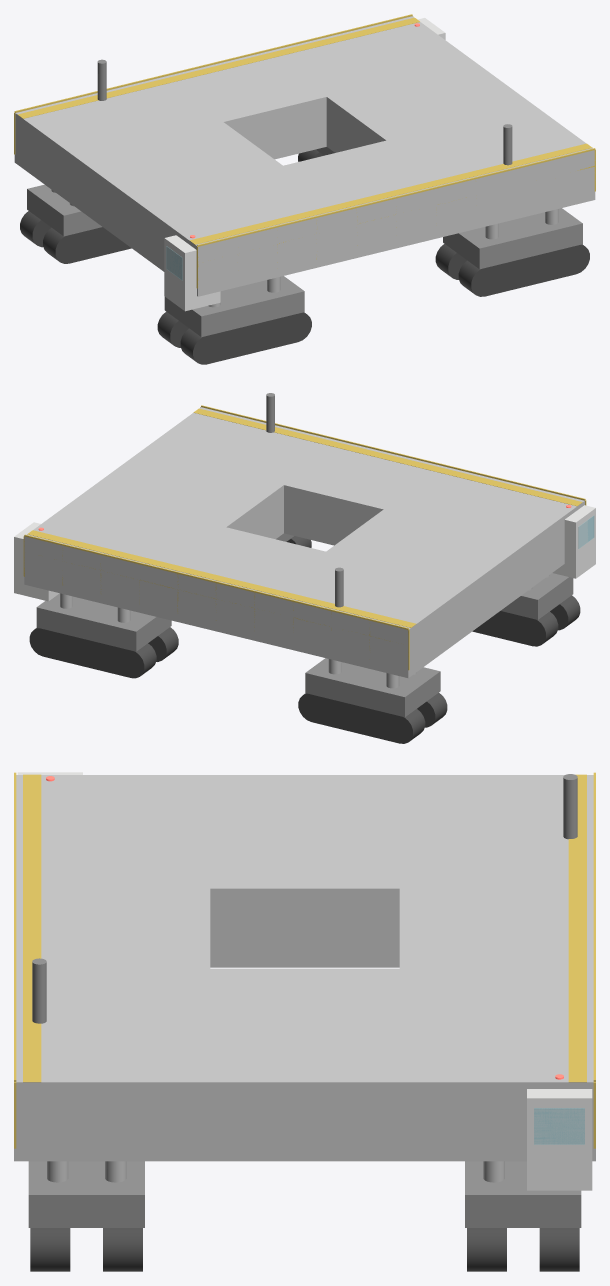
File: crawler-transporter.glb
3 renders of one model, top to bottom at view 1: azimuth 30°, elevation 25°; view 2: azimuth 150°, elevation 25°; view 3: azimuth 270°, elevation 25°, orthographic. The views are drawn at different scales.
Parts seen in each view (by area): view 1: platform-deck, tracks, truck-frames, platform-deck-edge-stripes, platform-cabs, platform-railings, platform-exhaust-stacks, jacking-cylinders; view 2: platform-deck, truck-frames, tracks, platform-deck-edge-stripes, platform-cabs, platform-railings, jacking-cylinders, platform-exhaust-stacks; view 3: platform-deck, truck-frames, platform-deck-edge-stripes, tracks, platform-cabs, platform-railings, platform-exhaust-stacks, platform-cab-windows, jacking-cylinders.
Boxes of the visible parts, <box> form: platform-deck: <box>14,16,595,296</box>; tracks: <box>20,149,589,364</box>; truck-frames: <box>27,147,582,337</box>; platform-deck-edge-stripes: <box>17,17,592,244</box>; platform-cabs: <box>164,18,445,311</box>; platform-railings: <box>14,14,595,288</box>; platform-exhaust-stacks: <box>97,59,512,165</box>; jacking-cylinders: <box>51,189,558,307</box>; platform-deck: <box>24,407,584,677</box>; truck-frames: <box>36,533,573,717</box>; tracks: <box>29,536,580,743</box>; platform-deck-edge-stripes: <box>27,408,582,627</box>; platform-cabs: <box>14,505,595,601</box>; platform-railings: <box>23,405,586,670</box>; jacking-cylinders: <box>60,575,549,688</box>; platform-exhaust-stacks: <box>266,393,343,607</box>; platform-deck: <box>14,775,595,1161</box>; truck-frames: <box>28,1161,581,1227</box>; platform-deck-edge-stripes: <box>23,774,586,1082</box>; tracks: <box>30,1228,579,1271</box>; platform-cabs: <box>17,772,592,1190</box>; platform-railings: <box>14,772,595,1148</box>; platform-exhaust-stacks: <box>32,774,577,1023</box>; platform-cab-windows: <box>534,1108,584,1144</box>; jacking-cylinders: <box>47,1161,504,1182</box>.
Size of the model in its own units: 21.24 by 7.8 by 16.
